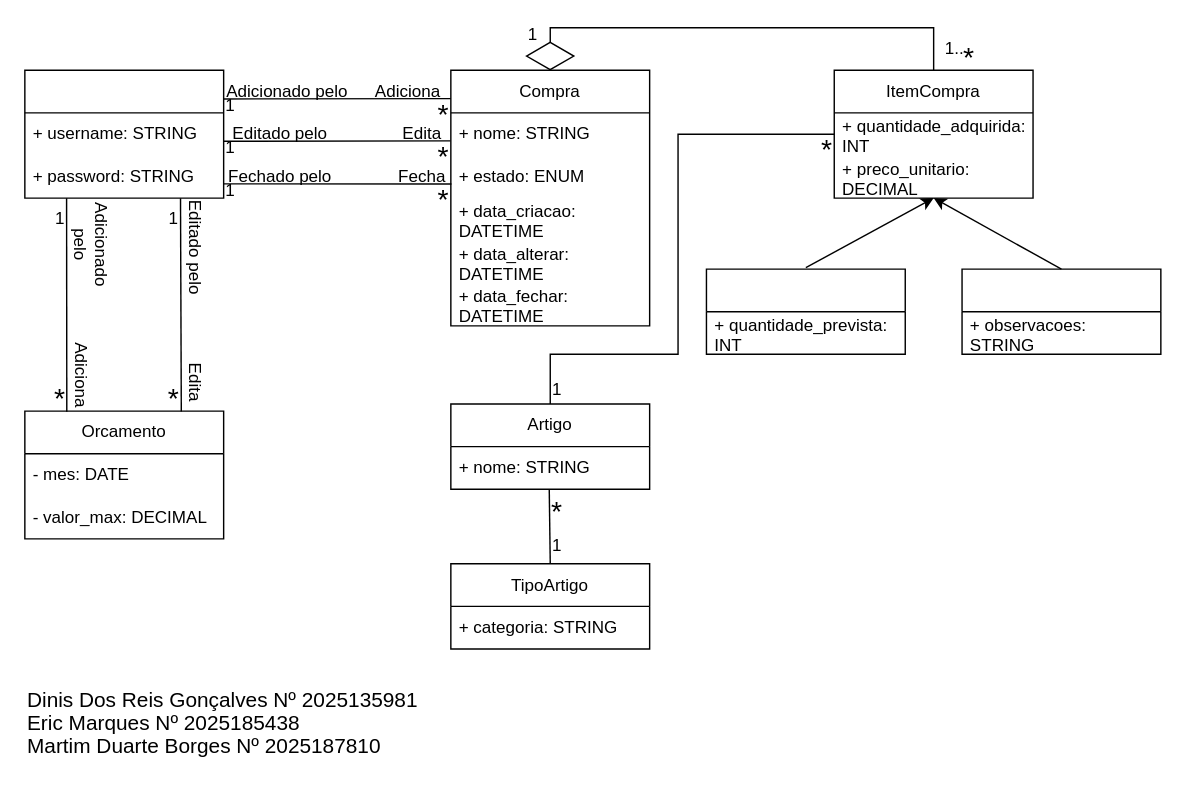
Some shapes in this 1186 by 790 pixel diagram are drawn without their labels. The shapes that lost their labels are listed below. From the top down, each one's box as (x1, y1, x2, y2) in pixels, then its label:
(23, 69, 224, 198): Utilizador
(705, 268, 905, 354): ArtigoPrevisto
(961, 268, 1161, 354): ArtigoNaoPrevisto
